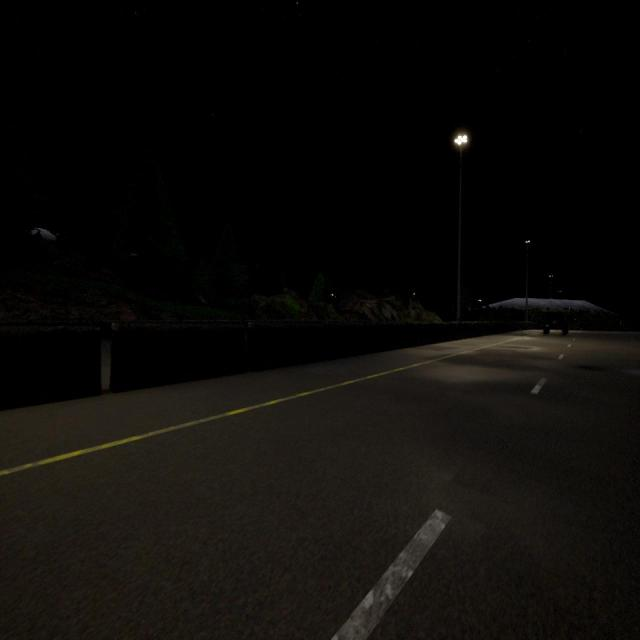Vehicle: (543, 310, 569, 336)
